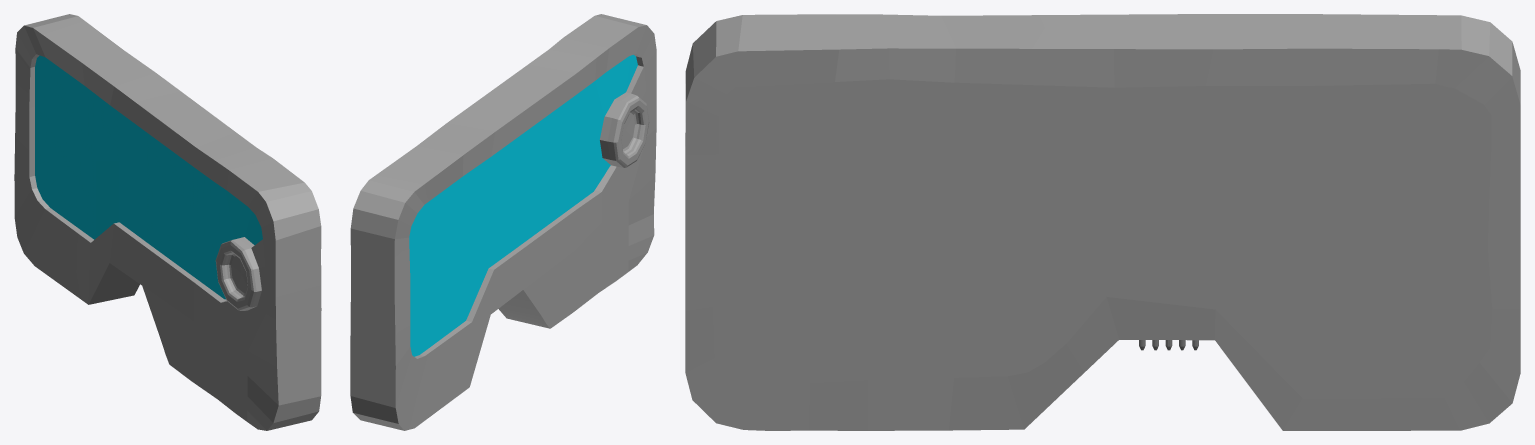
File: Objeto lore terminado.fbx
3 renders of one model, left to right at view 1: azimuth 30°, elevation 25°; view 2: azimuth 150°, elevation 25°; view 3: azimuth 270°, elevation 25°, orthographic. The views are drawn at different scales.
Parts seen in each view (by area): view 1: Base, Cristal; view 2: Base, Cristal; view 3: Base.
Part boxes in pixels (left/top/right/bottom): Base: left=14, top=14, right=321, bottom=430; Cristal: left=35, top=55, right=262, bottom=299; Base: left=350, top=14, right=656, bottom=430; Cristal: left=409, top=54, right=637, bottom=356; Base: left=685, top=14, right=1520, bottom=430.
Bounding box in the file's own units: 32.68 × 132 × 262.
